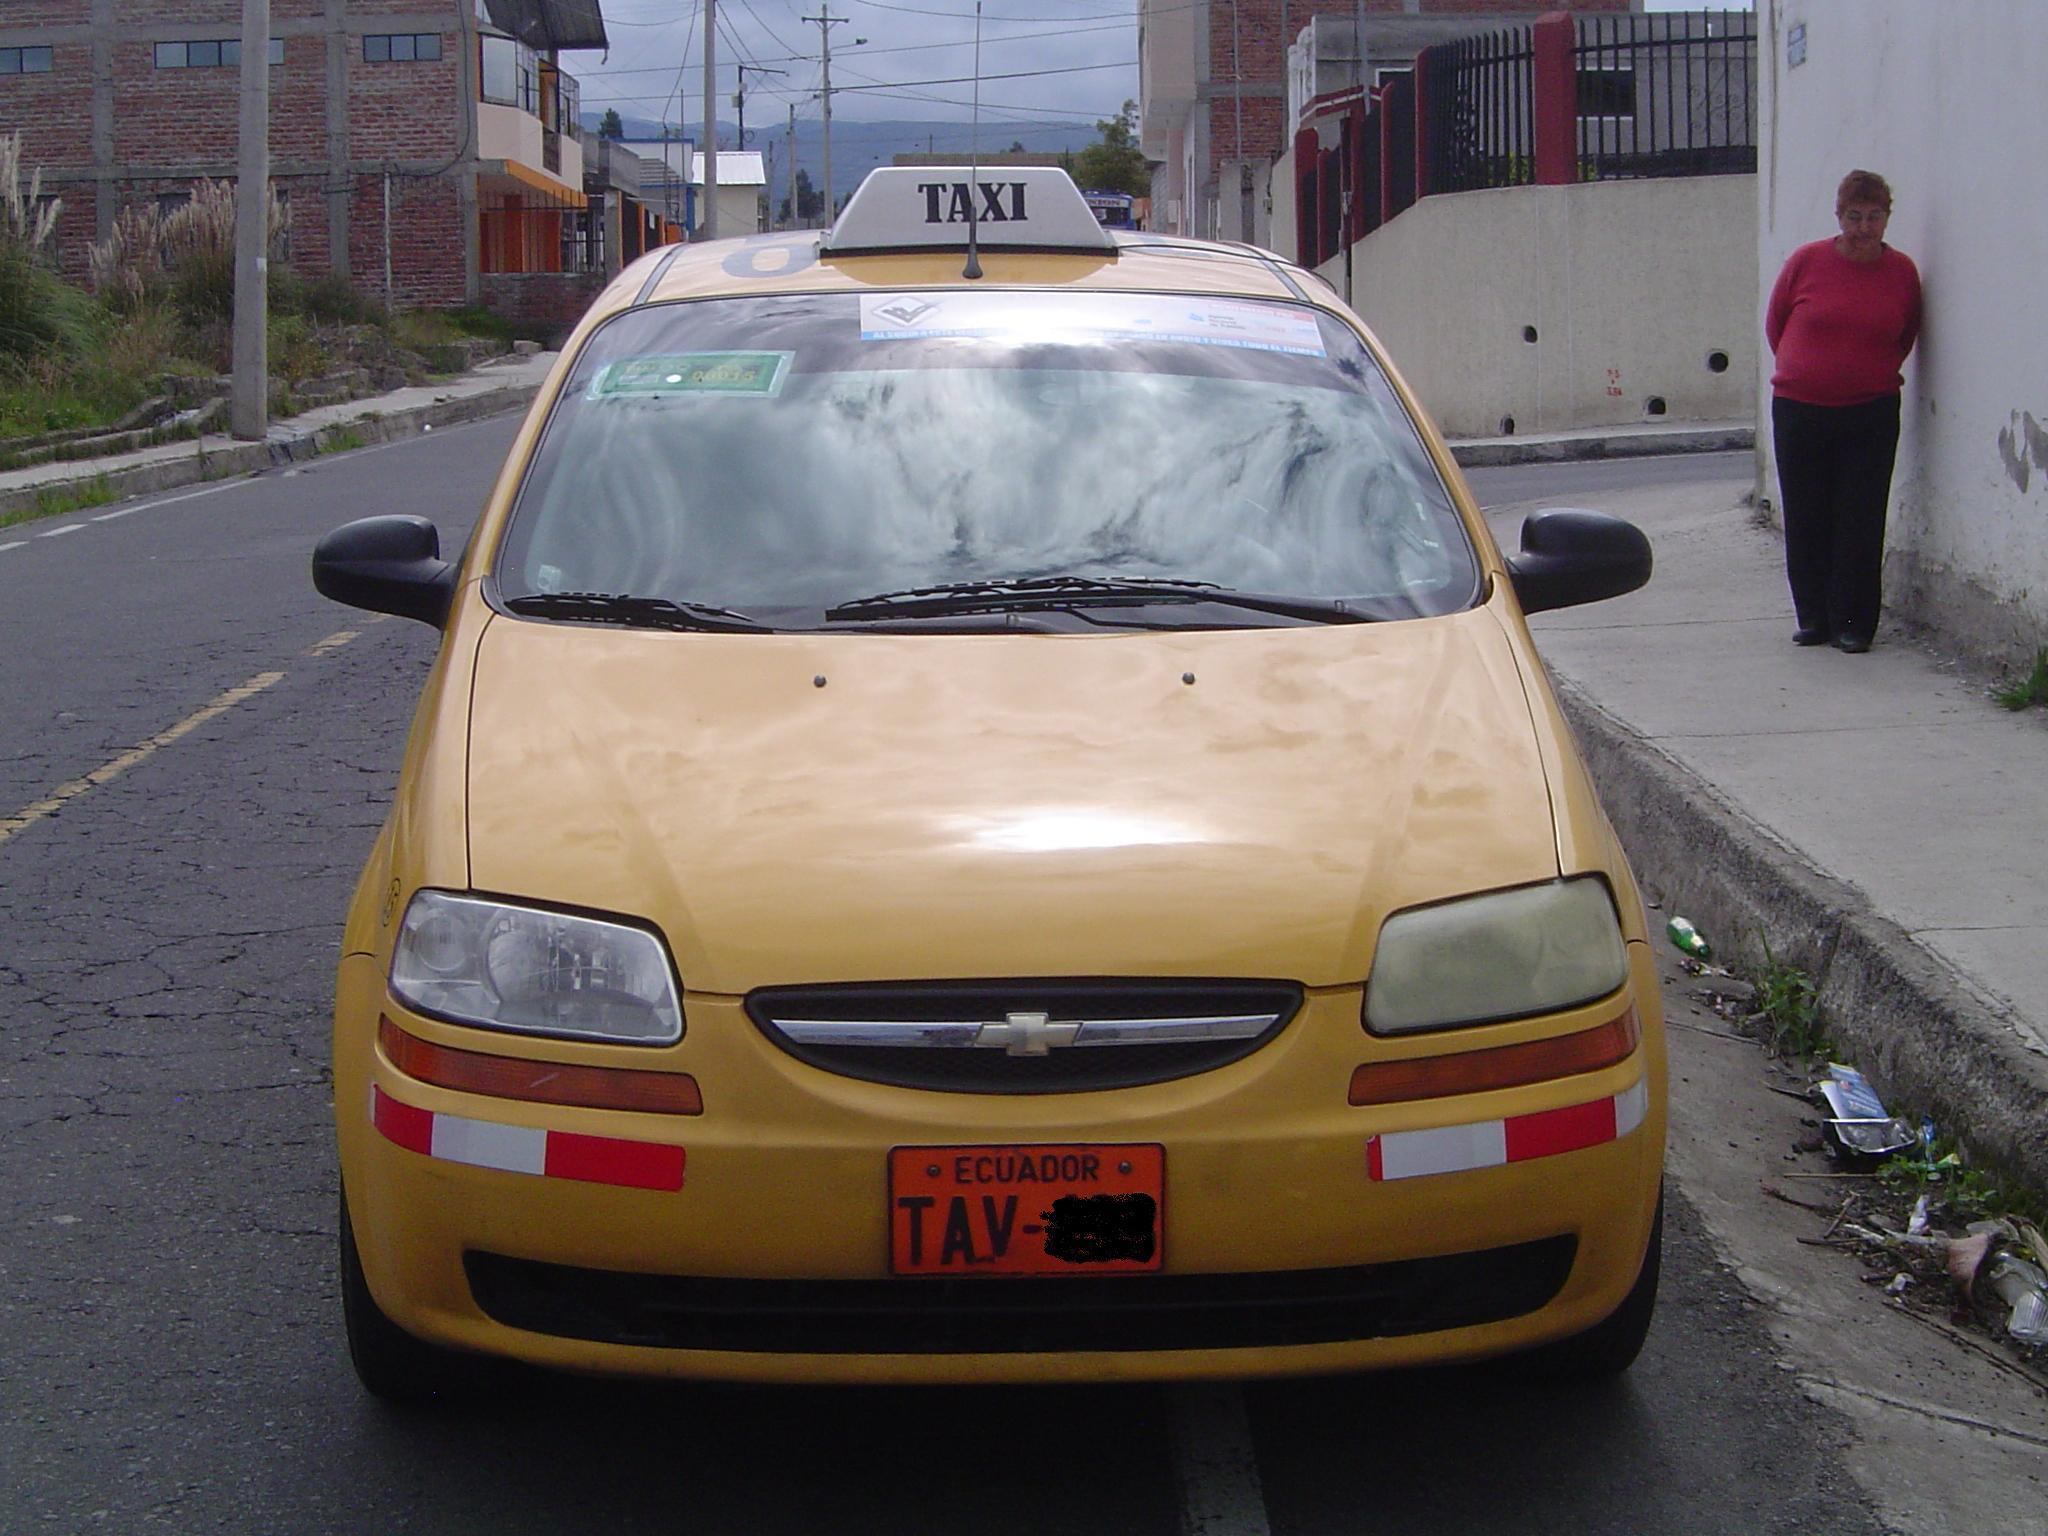taxi: (298, 131, 1687, 1409)
